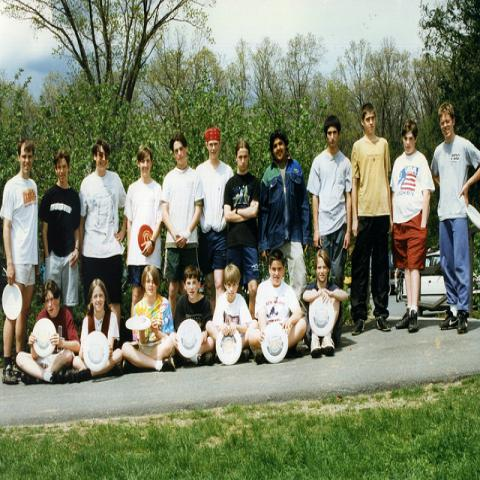car: (396, 251, 450, 307)
